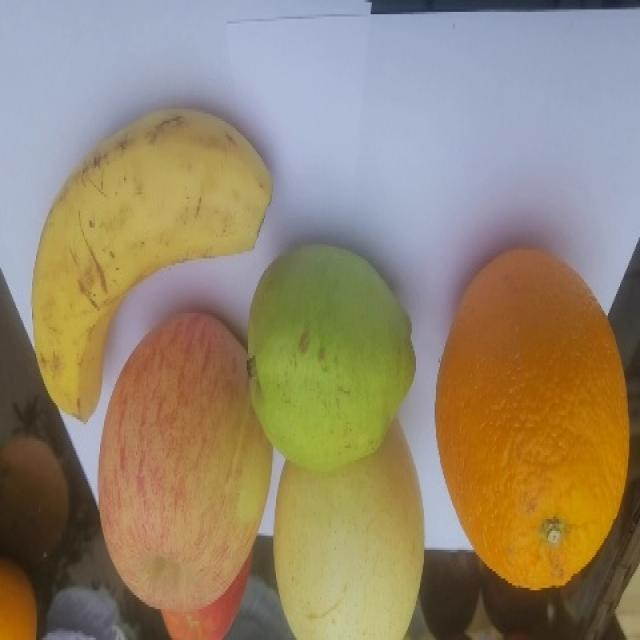Apple: (95, 303, 268, 610), (149, 542, 260, 640)
Banana: (26, 104, 277, 426)
Orange: (431, 246, 633, 593)
